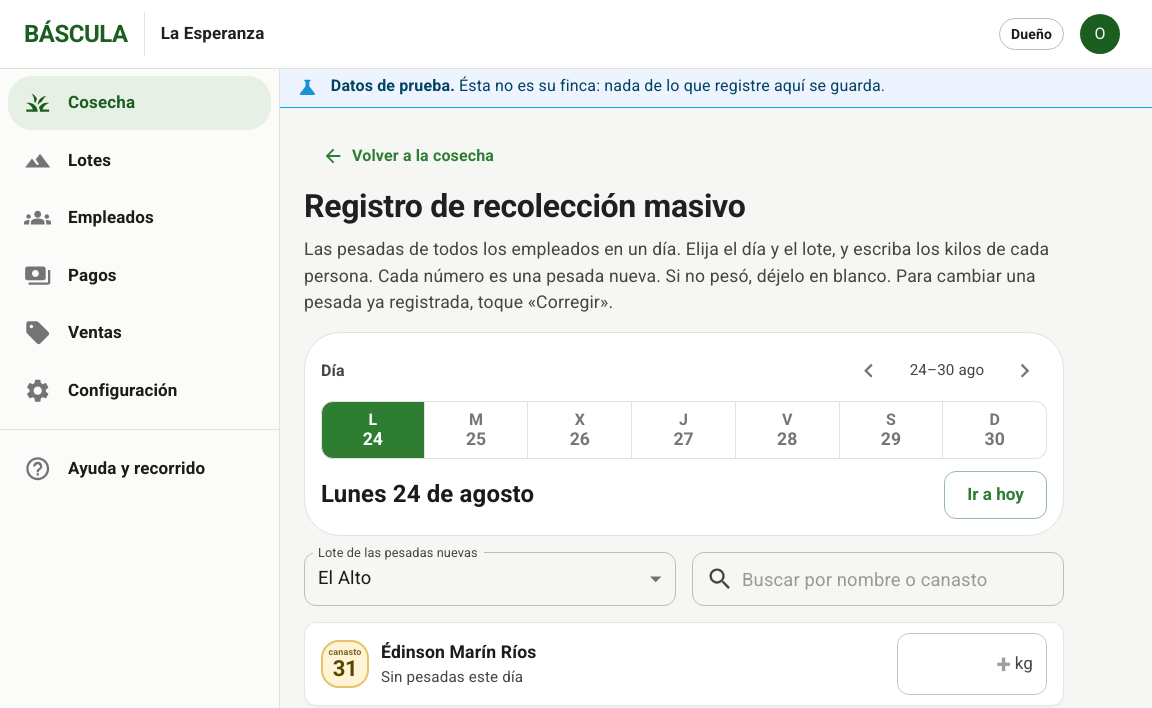
Test case: moving around › goes a week back, a week forward, and back to today
The width and height of the screenshot is (1152, 708).
Expected: the text "Lunes 24 de agosto" is shown, [321,480,534,508]
Click the button named "Semana anterior" at (869, 370), box [847,348,891,392]
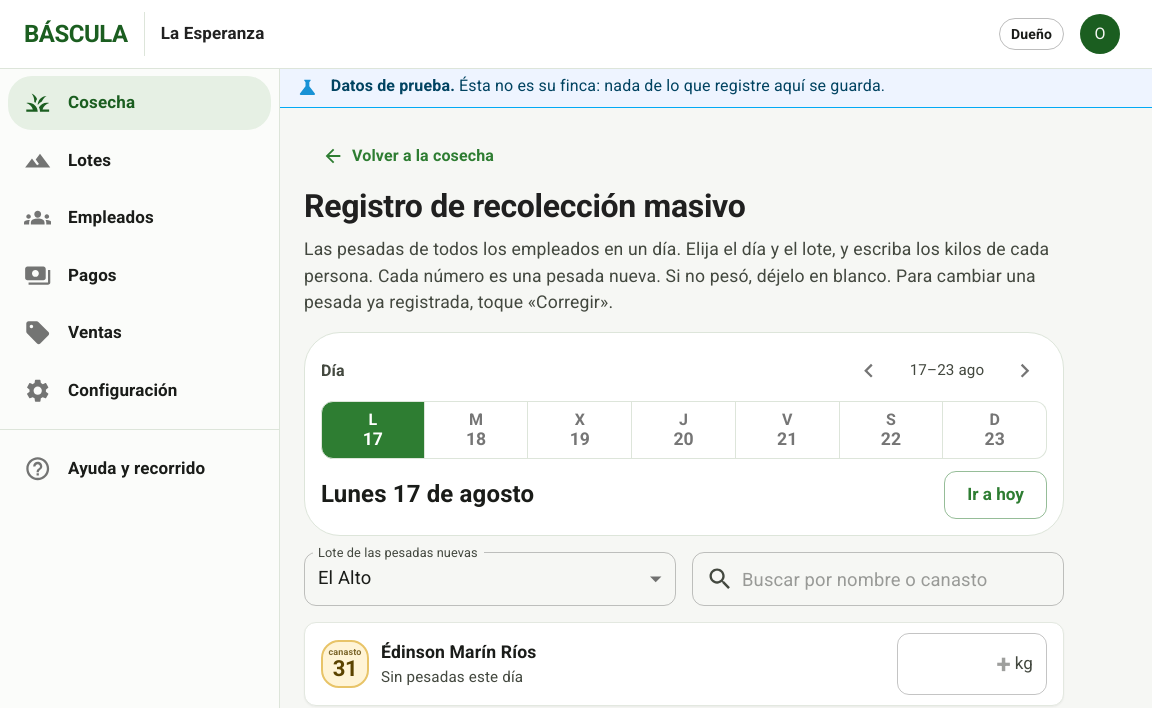
Now the text "Lunes 17 de agosto" is shown, box [321,480,534,508]
Click the button named "Semana siguiente" at (1025, 370), box [1003,348,1047,392]
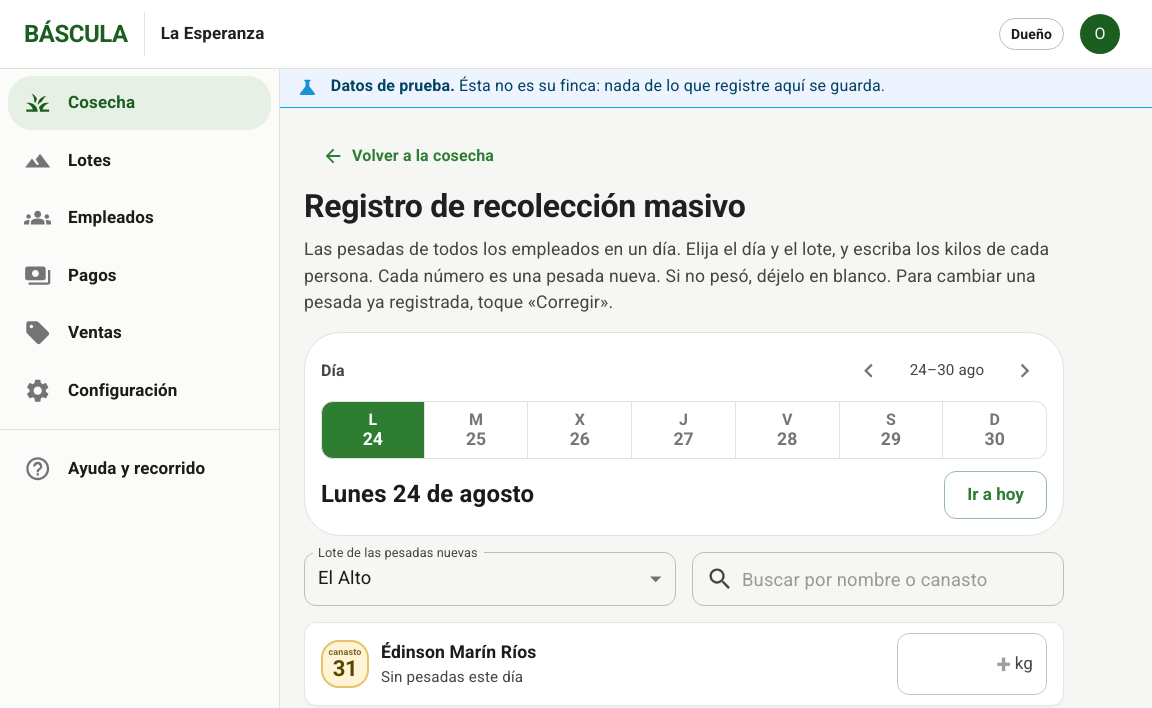
Now the text "Lunes 24 de agosto" is shown, box [321,480,534,508]
Click the button "Ir a hoy" at (996, 495), box [944,471,1047,519]
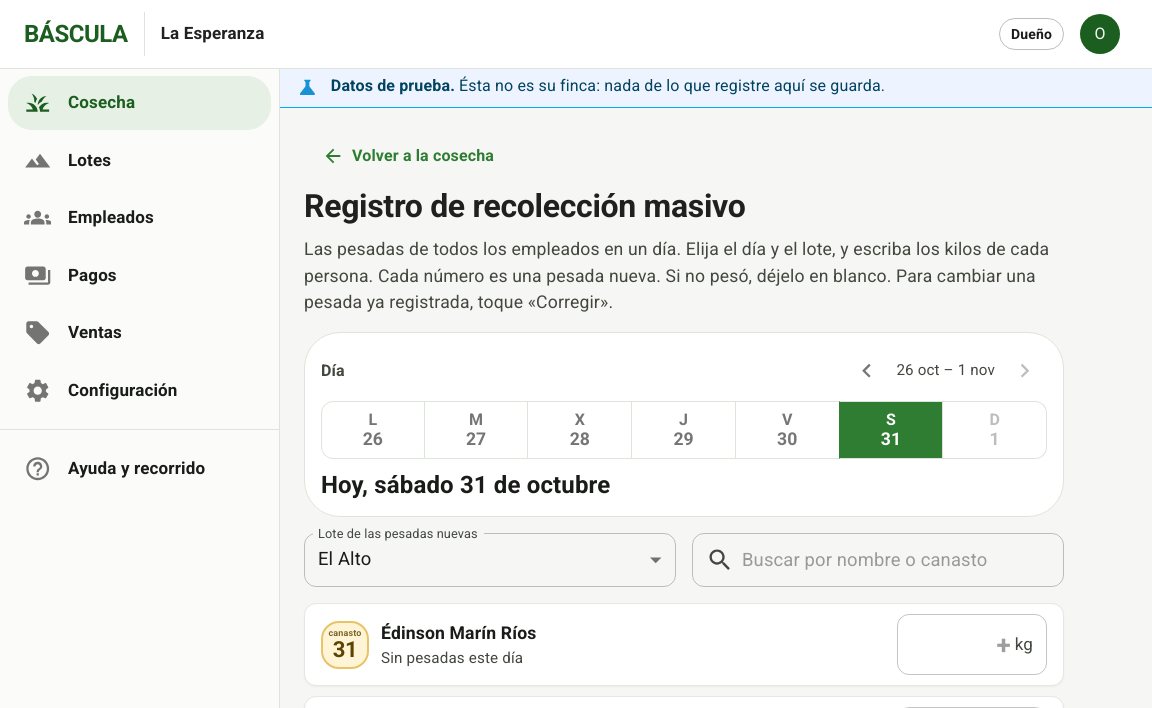
Now the button "Ir a hoy" is gone
